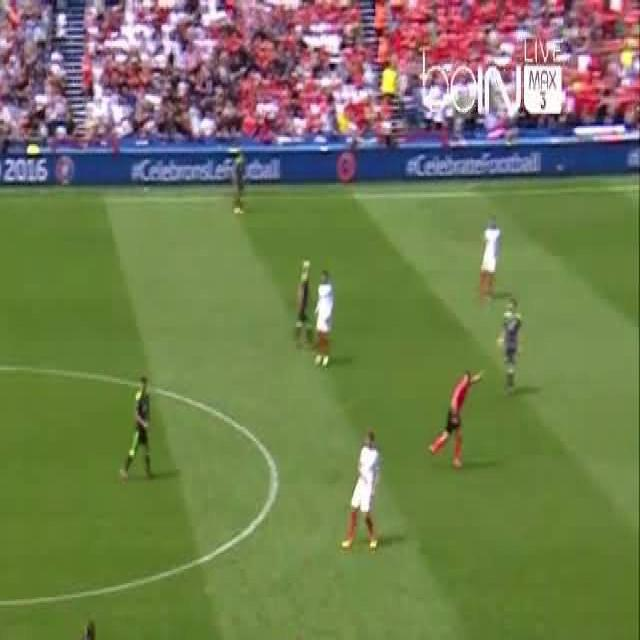player-white: (429, 370, 484, 470), (341, 432, 379, 552), (120, 376, 152, 478), (498, 298, 524, 400), (313, 270, 333, 368), (479, 216, 501, 302), (294, 258, 314, 347), (60, 618, 103, 640), (232, 152, 245, 216)
